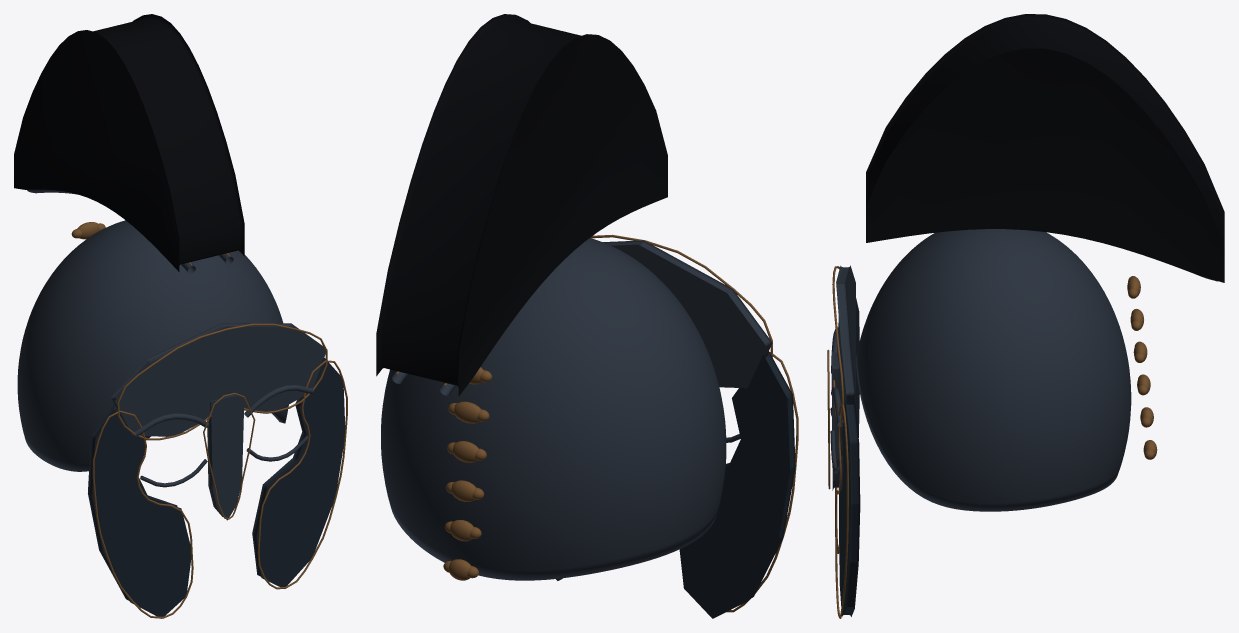
The model's file is leonidas-aqueo-dark-production-v13.glb.
The picture shows the model from 3 angles, left to right: view 1: azimuth 30°, elevation 25°; view 2: azimuth 150°, elevation 25°; view 3: azimuth 270°, elevation 25°; orthographic projection. The views are drawn at different scales.
Parts seen in each view (by area): view 1: AqueoV13_SagittalHorsehairFan, AqueoV13_ClosedAnatomicalShell, AqueoV13_SculptedForehead, AqueoV13_SculptedCheekLeft, AqueoV13_SculptedCheekRight, AqueoV13_SculptedNasal, AqueoV13_CheekBronzeTrimRight, AqueoV13_CheekBronzeTrimLeft, AqueoV13_ForeheadBronzeTrim, AqueoV13_NasalBronzeTrim, AqueoV13_BrowRidgeL, AqueoV13_BrowRidgeR; view 2: AqueoV13_ClosedAnatomicalShell, AqueoV13_SagittalHorsehairFan, AqueoV13_SculptedCheekLeft, AqueoV13_SculptedForehead, AqueoV13_CheekBronzeTrimLeft, AqueoV13_ForeheadBronzeTrim; view 3: AqueoV13_ClosedAnatomicalShell, AqueoV13_SagittalHorsehairFan, AqueoV13_SculptedCheekRight, AqueoV13_SculptedForehead, AqueoV13_CheekBronzeTrimRight, AqueoV13_SculptedNasal.
Part boxes in pixels (x1,y1,x2,y2): AqueoV13_SagittalHorsehairFan: (14, 14, 244, 271); AqueoV13_ClosedAnatomicalShell: (17, 220, 288, 471); AqueoV13_SculptedForehead: (110, 323, 327, 436); AqueoV13_SculptedCheekLeft: (88, 404, 190, 618); AqueoV13_SculptedCheekRight: (252, 357, 345, 587); AqueoV13_SculptedNasal: (207, 393, 244, 520); AqueoV13_CheekBronzeTrimRight: (257, 360, 347, 589); AqueoV13_CheekBronzeTrimLeft: (92, 410, 193, 618); AqueoV13_ForeheadBronzeTrim: (117, 323, 327, 440); AqueoV13_NasalBronzeTrim: (203, 392, 255, 519); AqueoV13_BrowRidgeL: (134, 413, 208, 436); AqueoV13_BrowRidgeR: (244, 384, 313, 417); AqueoV13_ClosedAnatomicalShell: (381, 238, 726, 580); AqueoV13_SagittalHorsehairFan: (376, 14, 667, 396); AqueoV13_SculptedCheekLeft: (679, 351, 795, 618); AqueoV13_SculptedForehead: (602, 240, 772, 388); AqueoV13_CheekBronzeTrimLeft: (726, 352, 798, 612); AqueoV13_ForeheadBronzeTrim: (590, 234, 772, 357); AqueoV13_ClosedAnatomicalShell: (856, 229, 1131, 511); AqueoV13_SagittalHorsehairFan: (866, 14, 1224, 282); AqueoV13_SculptedCheekRight: (839, 401, 860, 616); AqueoV13_SculptedForehead: (836, 265, 855, 425); AqueoV13_CheekBronzeTrimRight: (835, 403, 848, 618); AqueoV13_SculptedNasal: (831, 350, 841, 490).
Bounding box in the file's own units: 0.1958 × 0.3749 × 0.2436.
